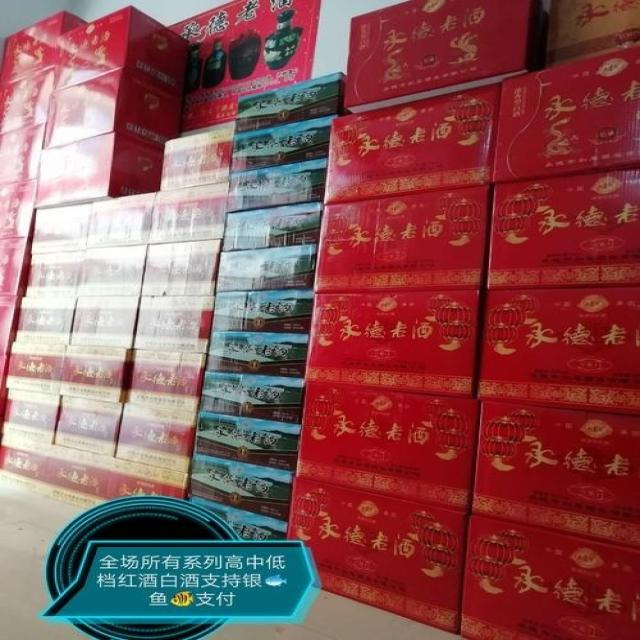box: (288, 476, 470, 632), (472, 402, 640, 549), (298, 382, 480, 511), (458, 510, 639, 639), (344, 0, 543, 114), (324, 80, 502, 204), (476, 287, 639, 417), (493, 43, 639, 183), (311, 184, 493, 295), (305, 288, 484, 398), (485, 168, 639, 289), (52, 6, 192, 99), (42, 68, 183, 152), (32, 130, 164, 209), (189, 450, 296, 523), (236, 72, 351, 134), (0, 11, 90, 85), (230, 113, 338, 173), (195, 411, 300, 470), (114, 403, 198, 474), (228, 157, 329, 212), (200, 371, 306, 423), (148, 181, 229, 245), (157, 127, 236, 192), (224, 200, 324, 251), (125, 351, 207, 412), (40, 443, 114, 510), (131, 296, 215, 355), (216, 244, 319, 292), (205, 331, 310, 378), (212, 289, 316, 335), (141, 239, 223, 297), (188, 494, 289, 540), (52, 394, 125, 457), (60, 344, 134, 402), (88, 192, 157, 249), (68, 296, 140, 350), (102, 458, 189, 502), (77, 245, 148, 296), (0, 433, 52, 497), (0, 388, 60, 443), (6, 342, 68, 394), (32, 201, 93, 251), (24, 249, 86, 297), (15, 297, 78, 344), (0, 122, 46, 186), (0, 179, 37, 239), (0, 237, 33, 296), (0, 296, 23, 355)
